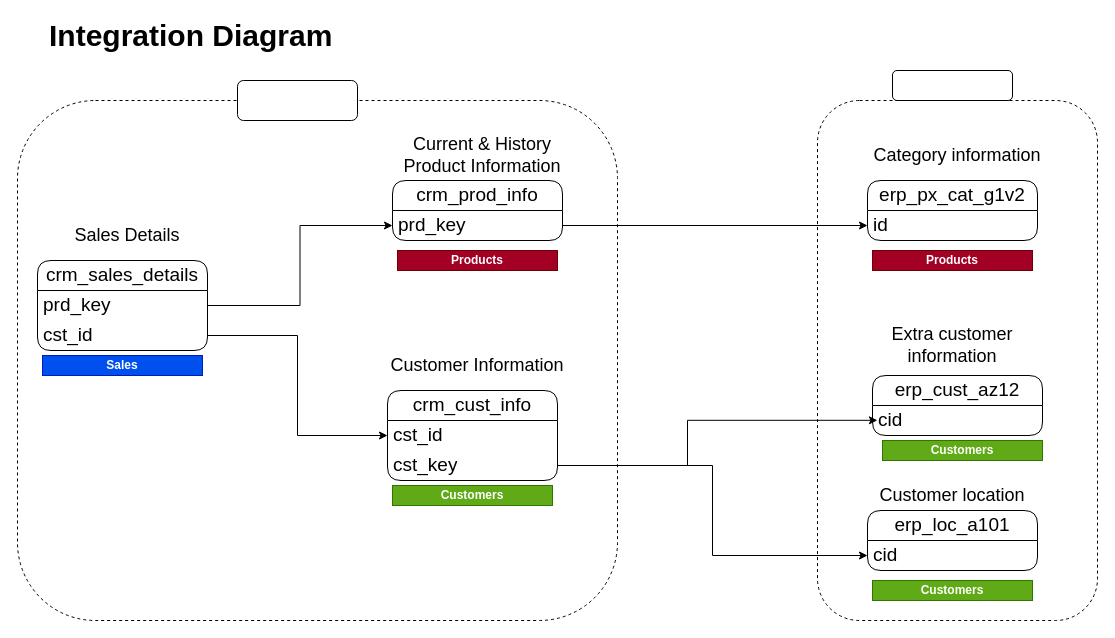
The diagram is 1115 pixels wide and 638 high, and some of its shapes have lost their labels. Here are the shapes that lost their labels. From the top down, the centre of each, then its label:
At (x=297, y=100): "CRM".
At (x=952, y=85): "ERP".
